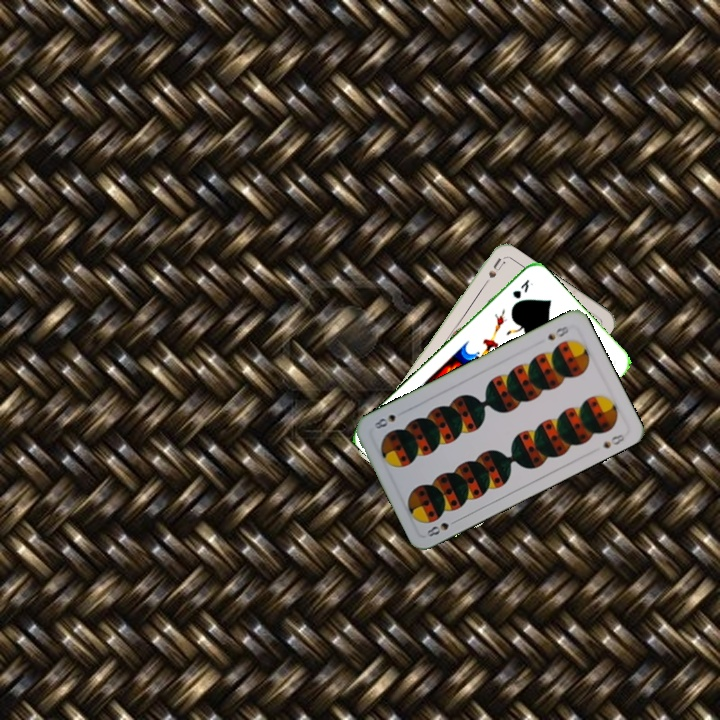GK: (508, 275, 536, 301)
S8: (423, 515, 461, 540), (543, 322, 571, 343)
SU: (477, 254, 507, 292)
